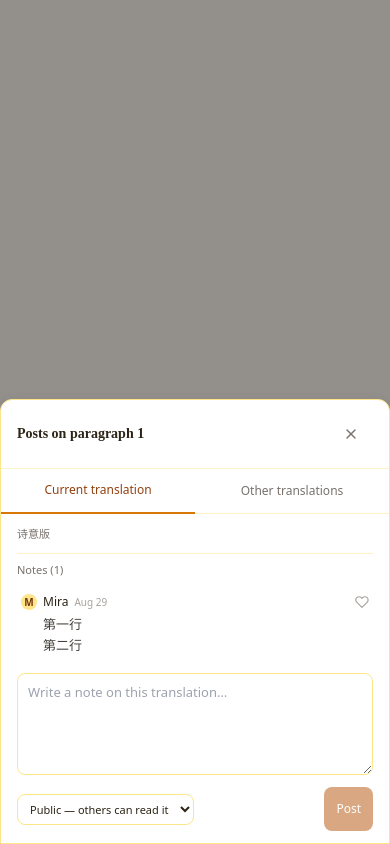
Test: the note composer is multi-line with a visibility choice; rows are two-line
Expected: the text "Aug 29" is shown, [74,594,107,610]
Expected: the text "第一行 第二行" is shown, [43,615,82,654]
Note: Private notes post as private and are badged
Select "Private — only you" in the dropdown named "Note visibility" at (106, 809), box [17,794,194,824]
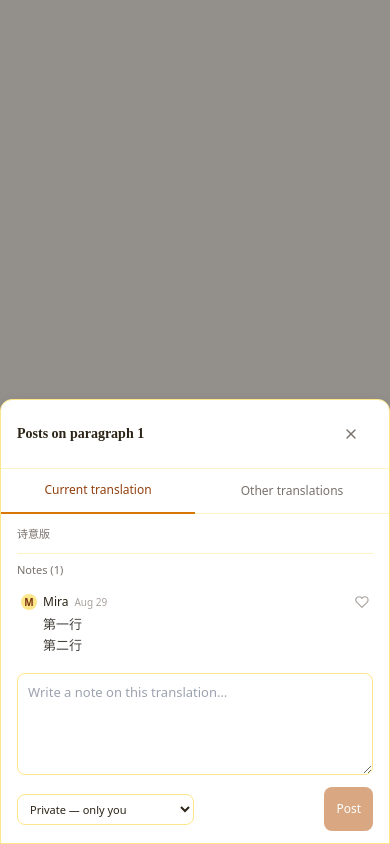
Type "只给自己看" into the text box named "Comment text".
click(195, 724); type("只给自己看")  # box [17,672,373,775]
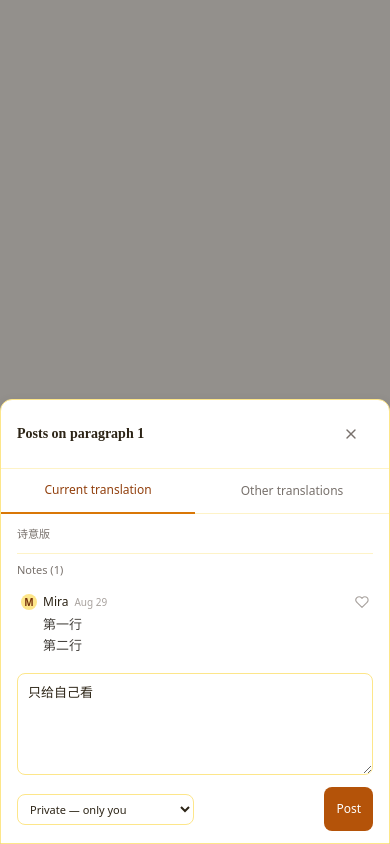
Click the button "Post".
click(349, 809)  # box [324,787,373,831]
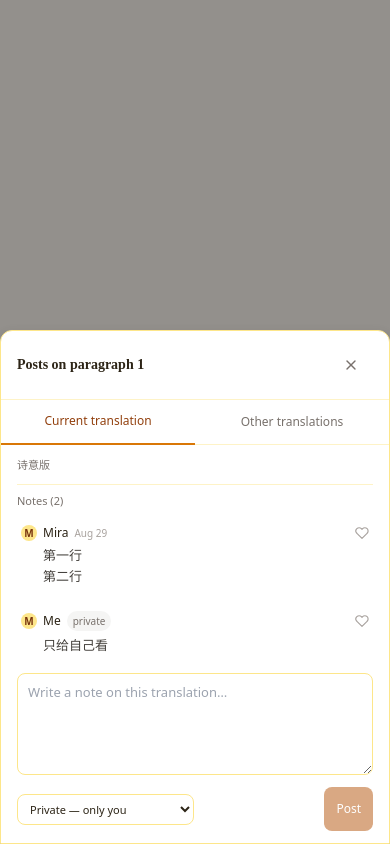
Now the text "private" is shown, box [67,611,112,631]
